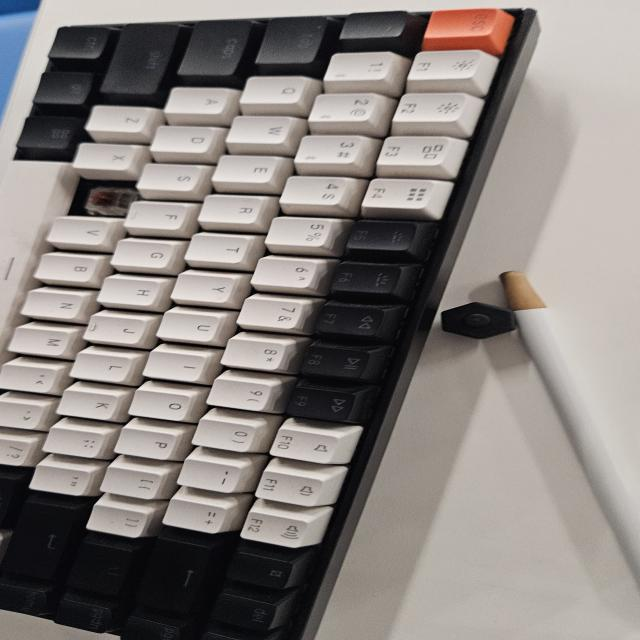C: (75, 188, 122, 209)
